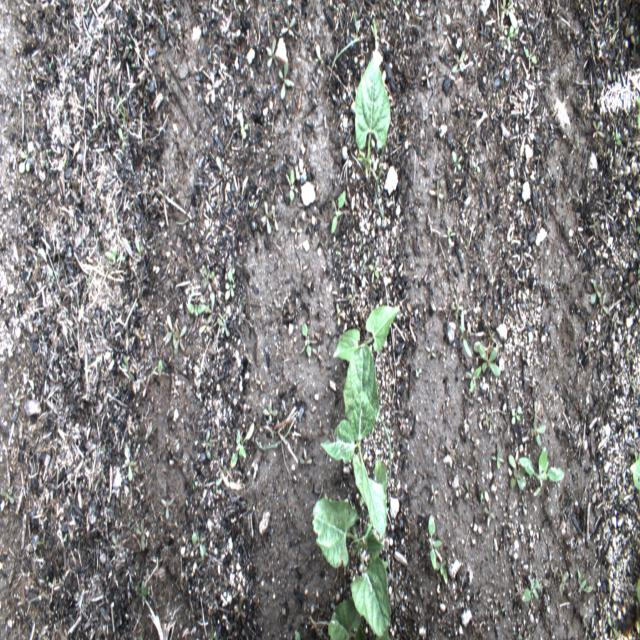crop: (320, 342, 386, 537), (312, 497, 390, 637), (354, 53, 390, 177), (332, 304, 400, 362), (328, 597, 390, 639), (630, 457, 640, 491)
weed: (518, 446, 564, 497), (331, 12, 362, 74), (256, 418, 296, 450), (230, 420, 254, 467), (379, 414, 392, 489), (374, 138, 384, 220), (428, 512, 442, 570), (479, 344, 501, 376), (349, 520, 373, 548), (278, 61, 295, 100), (331, 189, 345, 234), (460, 308, 472, 360), (574, 568, 594, 598), (18, 139, 33, 173), (191, 528, 207, 558), (165, 314, 178, 350), (530, 417, 546, 446), (428, 178, 443, 208), (522, 580, 542, 602), (466, 365, 481, 394), (112, 94, 126, 125), (509, 466, 526, 491), (473, 340, 499, 356), (224, 267, 236, 301), (40, 247, 54, 276), (450, 49, 466, 74), (300, 322, 311, 358), (266, 38, 280, 66), (278, 14, 295, 37), (200, 264, 215, 290), (261, 201, 272, 236), (174, 324, 186, 356), (122, 448, 134, 480), (206, 72, 218, 104), (263, 398, 278, 423), (122, 354, 135, 382), (161, 494, 175, 519), (434, 559, 448, 584), (136, 516, 146, 550), (419, 64, 432, 90), (104, 246, 125, 262), (233, 597, 245, 625), (290, 217, 303, 242), (607, 615, 620, 640), (590, 278, 602, 305), (198, 314, 212, 337), (201, 428, 211, 460), (370, 16, 379, 50), (558, 568, 570, 593), (214, 466, 227, 489), (286, 167, 295, 200), (1, 483, 14, 505), (451, 151, 462, 177), (484, 501, 495, 527), (186, 303, 207, 316), (217, 316, 230, 337), (522, 46, 537, 64), (134, 578, 148, 597), (491, 450, 505, 469), (502, 24, 514, 46), (527, 400, 540, 420), (592, 119, 605, 139), (140, 373, 151, 396), (428, 482, 439, 505), (368, 263, 379, 285), (599, 294, 610, 316), (205, 290, 215, 314), (511, 405, 523, 425), (610, 310, 622, 330), (443, 227, 456, 245), (271, 204, 279, 233), (132, 235, 142, 257), (584, 338, 594, 360), (300, 446, 312, 464), (312, 343, 323, 362), (591, 481, 600, 504), (589, 214, 598, 237), (634, 96, 640, 130), (507, 10, 518, 28), (518, 494, 527, 516), (239, 117, 248, 139), (424, 344, 437, 359), (567, 187, 578, 204), (508, 454, 518, 472), (550, 562, 561, 578), (627, 375, 636, 394), (117, 128, 124, 152), (215, 155, 223, 176), (499, 0, 508, 18), (206, 194, 213, 217), (464, 480, 472, 500), (612, 130, 622, 146), (482, 416, 493, 430), (463, 394, 474, 406), (575, 188, 583, 204), (480, 491, 489, 505), (518, 630, 530, 640), (156, 358, 162, 377), (611, 365, 618, 380), (636, 578, 640, 604), (602, 52, 609, 66), (634, 451, 640, 463), (626, 348, 630, 364), (383, 561, 388, 571), (296, 630, 300, 639), (629, 302, 633, 310), (636, 226, 640, 234), (638, 263, 640, 274)
